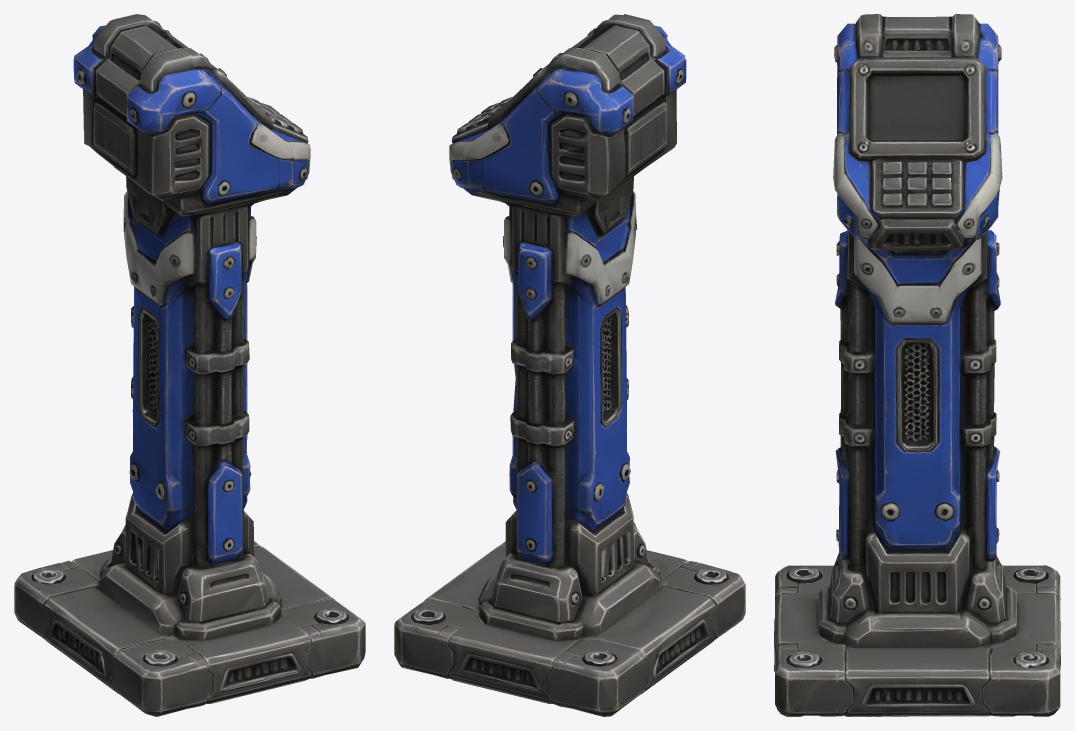
File: console.glb
3 views of the same model, side by side, from view 1: azimuth 30°, elevation 25°; view 2: azimuth 150°, elevation 25°; view 3: azimuth 270°, elevation 25° (orthographic).
Parts seen in each view (by area): view 1: tripo_node_7cc96184-fbb6-456a-9360-d31805481e9c; view 2: tripo_node_7cc96184-fbb6-456a-9360-d31805481e9c; view 3: tripo_node_7cc96184-fbb6-456a-9360-d31805481e9c.
Boxes of the visible parts, <box> form: tripo_node_7cc96184-fbb6-456a-9360-d31805481e9c: <box>14,14,365,716</box>; tripo_node_7cc96184-fbb6-456a-9360-d31805481e9c: <box>394,14,745,716</box>; tripo_node_7cc96184-fbb6-456a-9360-d31805481e9c: <box>774,14,1060,716</box>.
Bounding box in the file's own units: 0.3737 × 0.9788 × 0.4065.
1 material, 1 textured.
